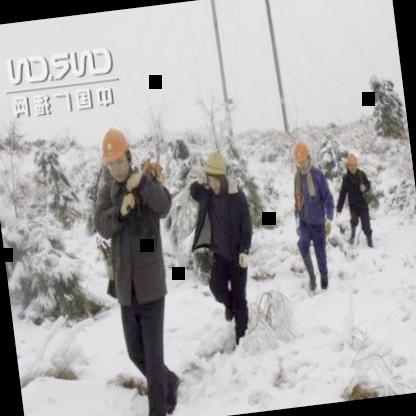helmet: (96, 122, 136, 185), (198, 144, 233, 194), (288, 136, 314, 174), (342, 148, 361, 174)
